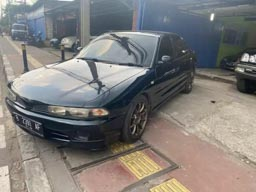plat: (14, 115, 42, 137)
